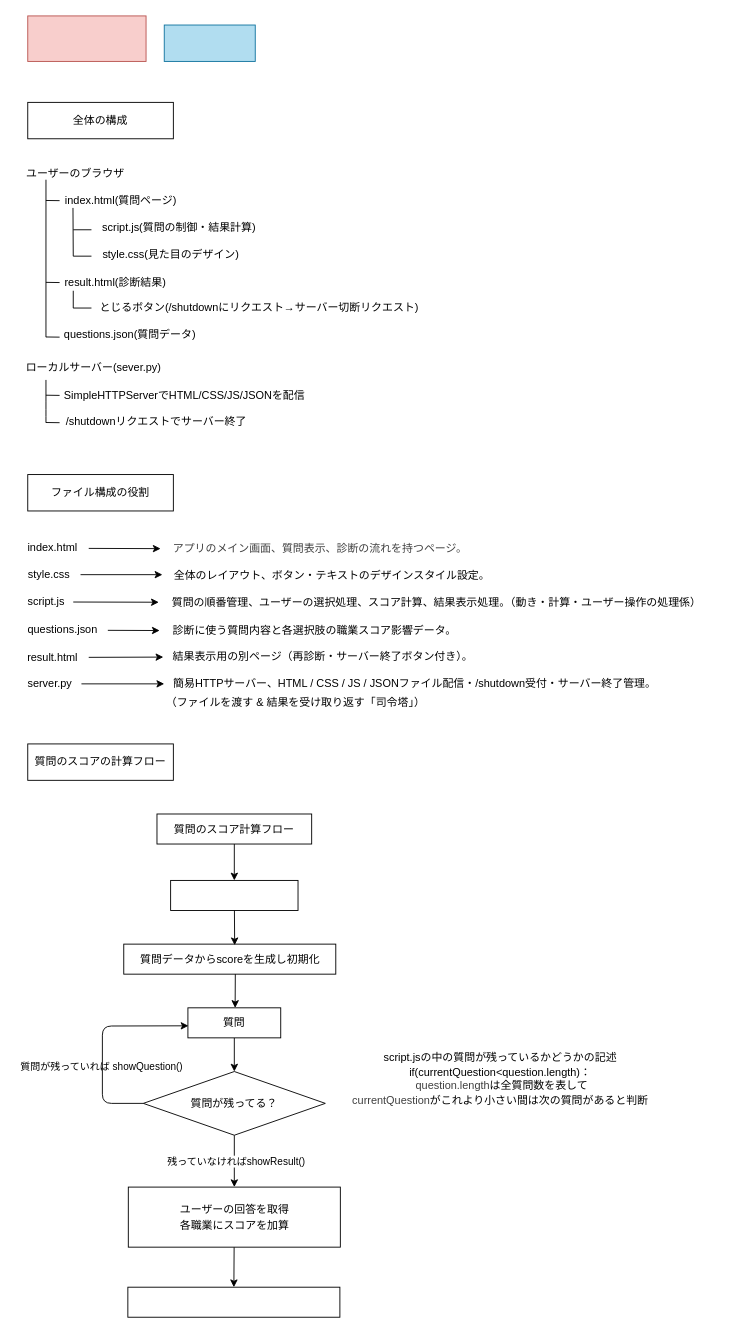
The diagram is 729 pixels wide and 1333 high, and some of its shapes have lost their labels. The shapes that lost their labels are listed below. From the top down, each one's centre as x and y in pixels, then its label:
the point at 86,38: ゆるっと職業診断
the point at 209,42: 設計図
the point at 234,895: 質問データ読み込む
the point at 233,1301: scoreの高い順に結果を表示
